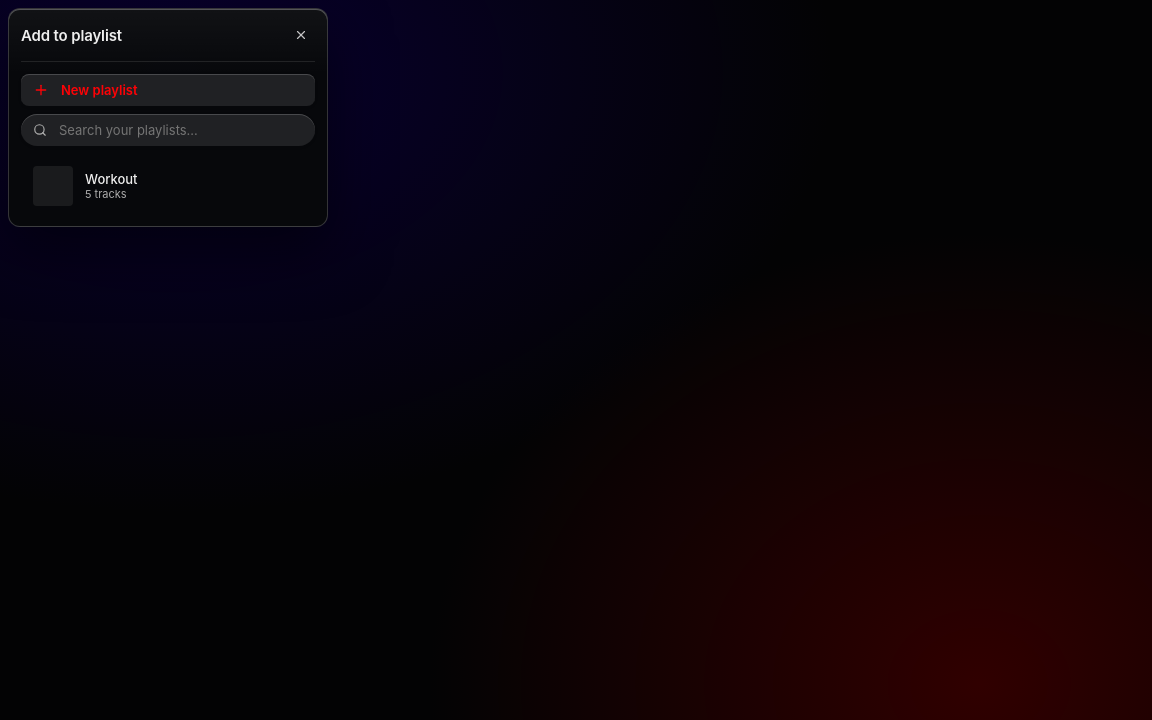
Test case: AddToPlaylistPicker › IPC error surfaces an inline retry banner instead of a toast
Click the option "Workout 5 tracks" at (53, 186), box [21,158,315,214]
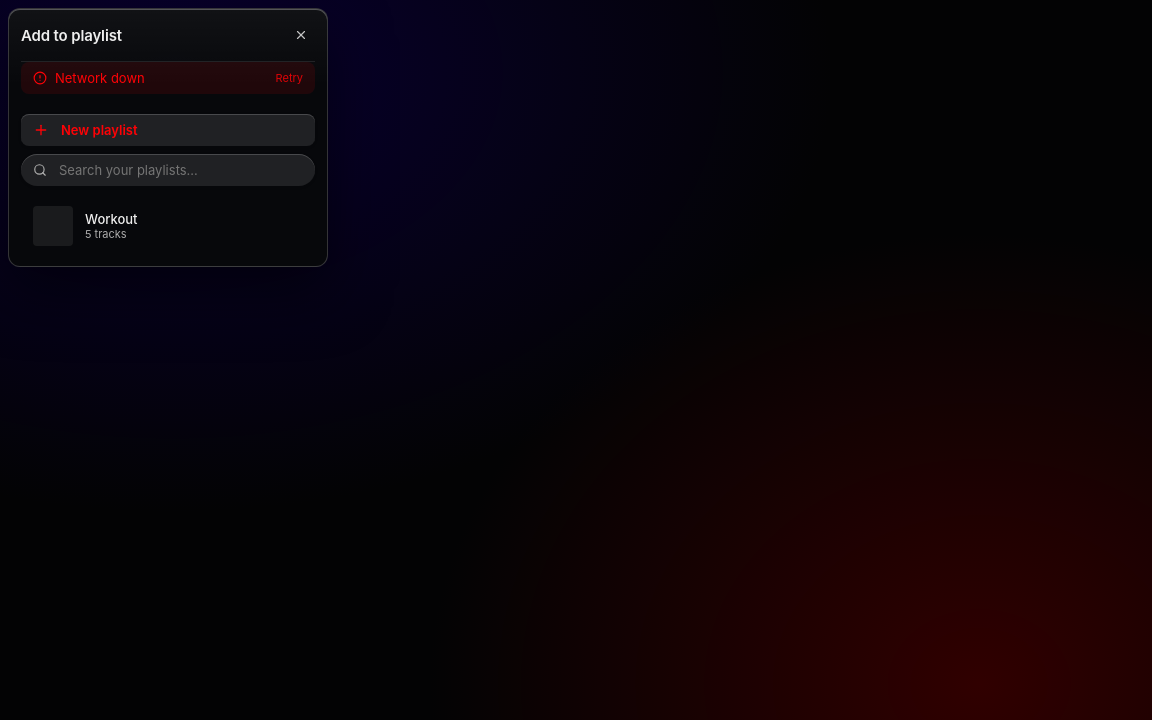
Result: the text "Network down" is shown at [55,70,145,86]
